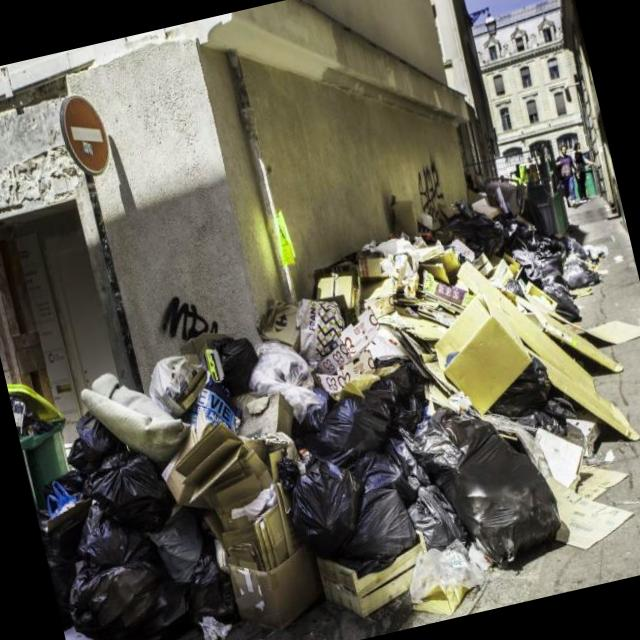high trash: (38, 205, 637, 640)
